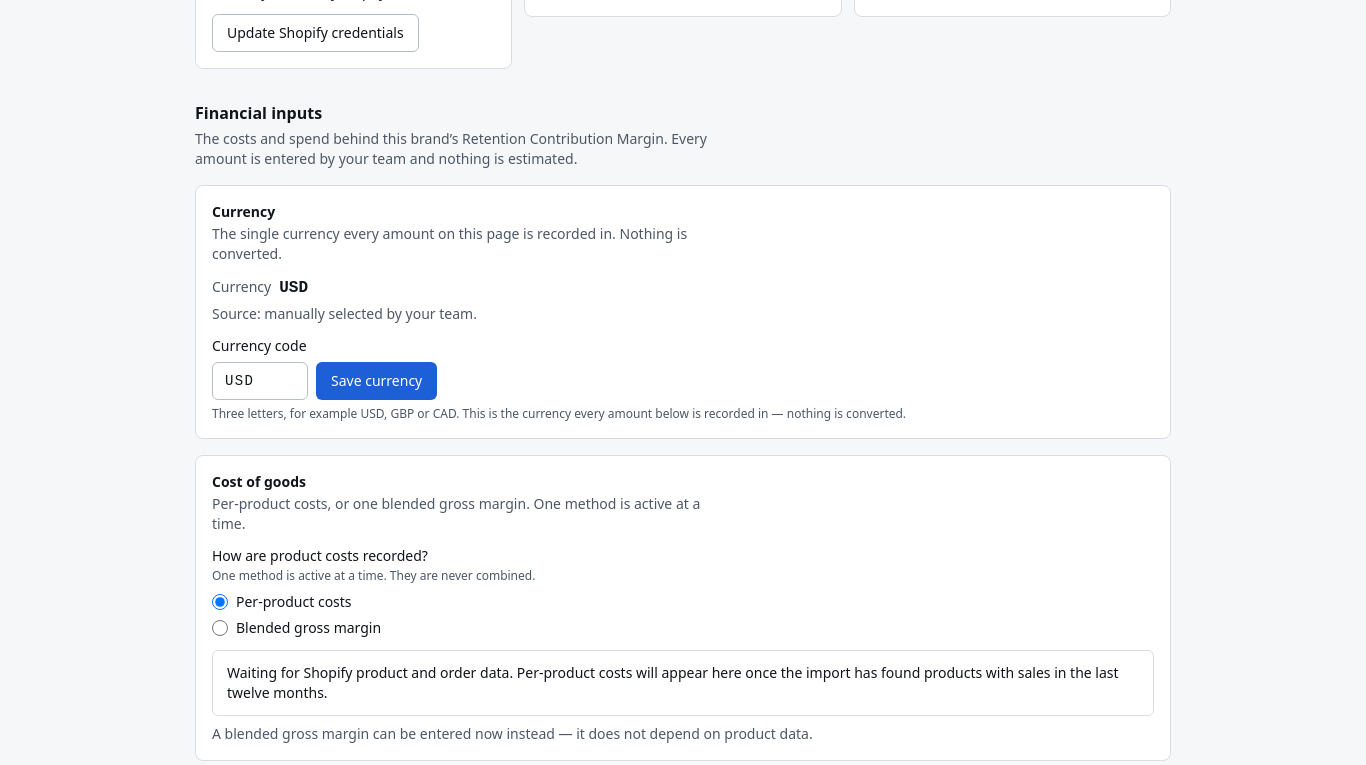
Test: the currency control › surfaces the fixed message if the server refuses a manual change
(page scrolled)
Click the button "Save currency": click(377, 381) [316,362,437,400]
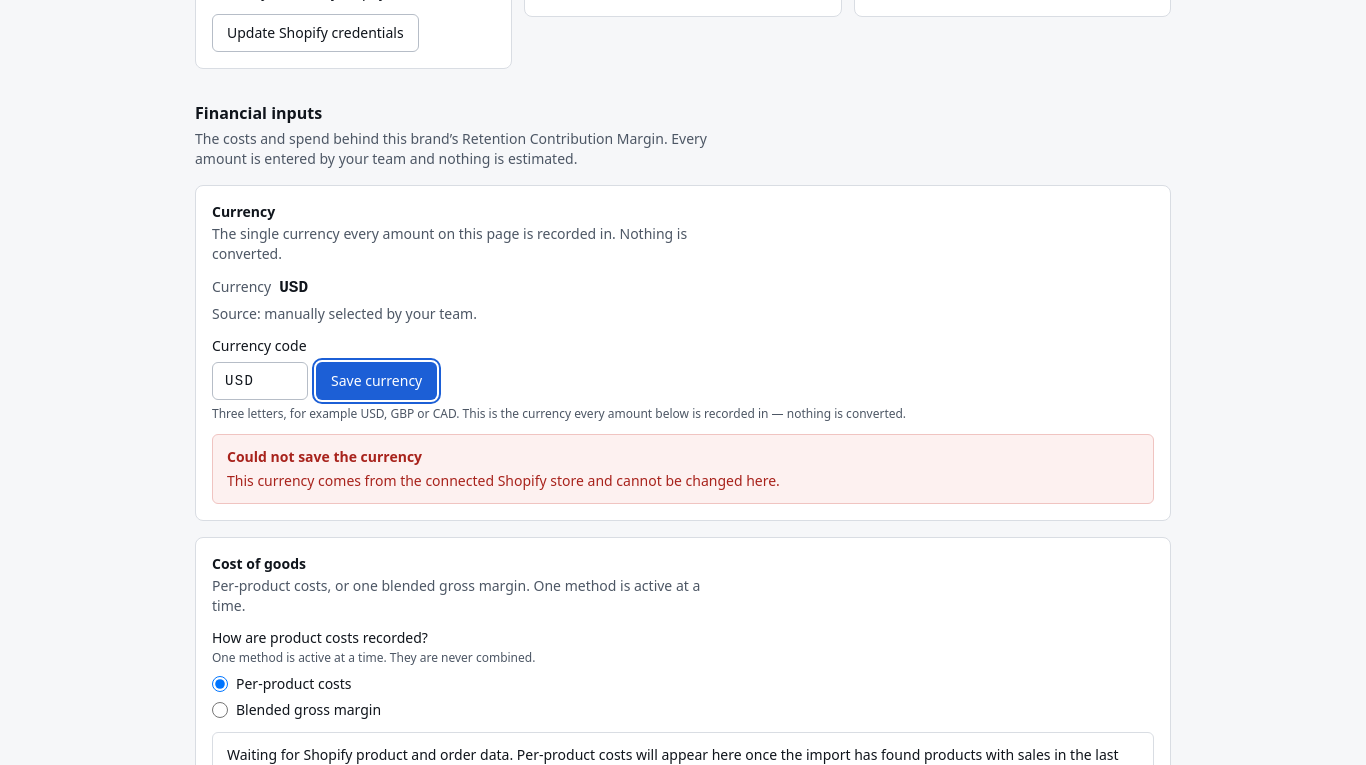
Expected: the element "Currency" does not show "raw backend prose", [195,185,1171,521]
Result: the text "This currency comes from the connected Shopify store and cannot be changed here." is shown at [227,471,780,490]
